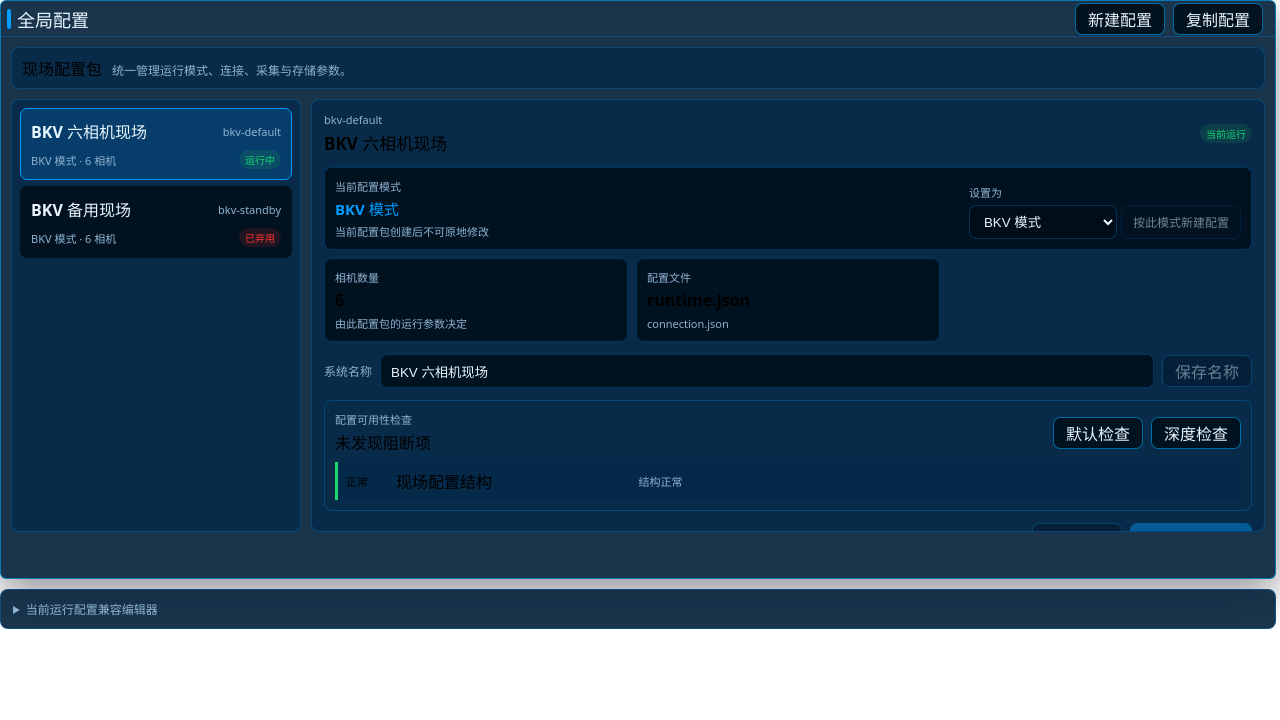
GlobalConfigurationPanel › marks a deprecated BKV online configuration and prevents activation
The image size is (1280, 720).
Expected: the element with test id "site-config-detail" is shown, [324,112,1252,532]
Click the button "BKV 备用现场 bkv-standby BKV 模式 · 6 相机 已弃用". click: (81, 210)
box: [20,186,292,258]
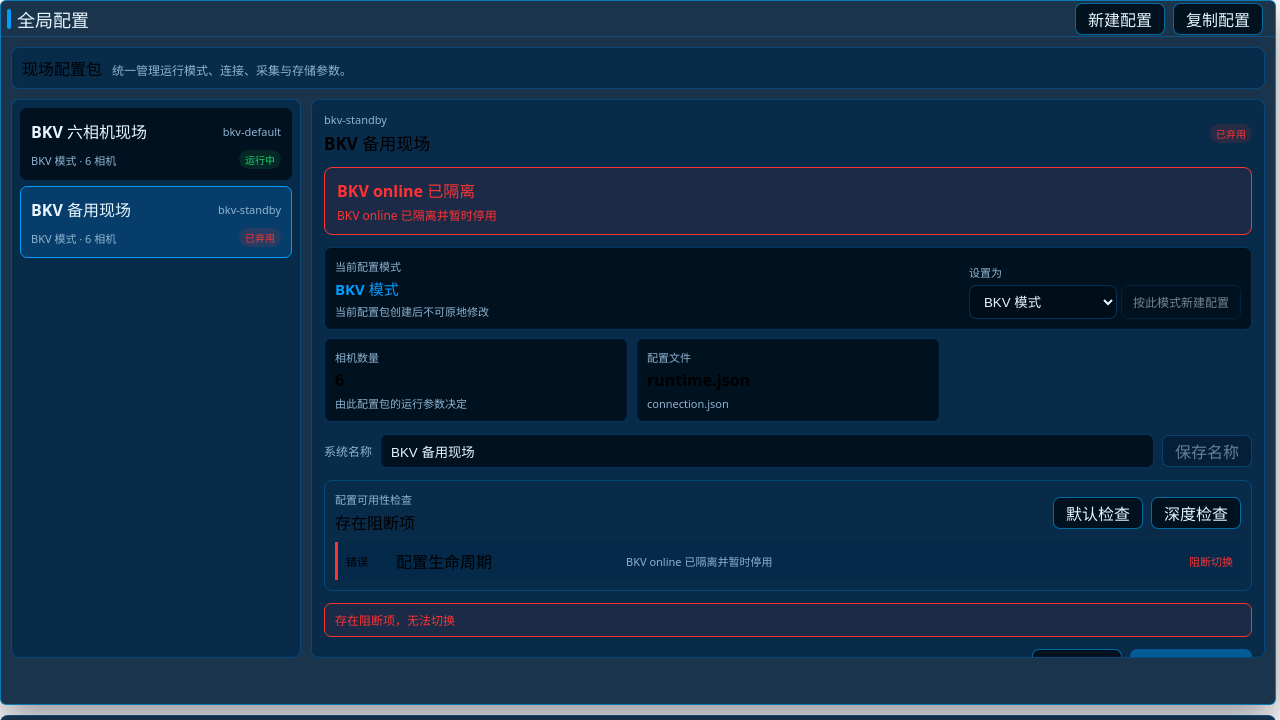
Expected: the 2nd text "已弃用" is shown, [239,228,281,247]
Expected: the text "BKV online 已隔离" is shown, [337,180,475,202]
Expected: the text "BKV online 已隔离并暂时停用" is shown 2 times, [337,207,497,224]; [626,554,772,569]
